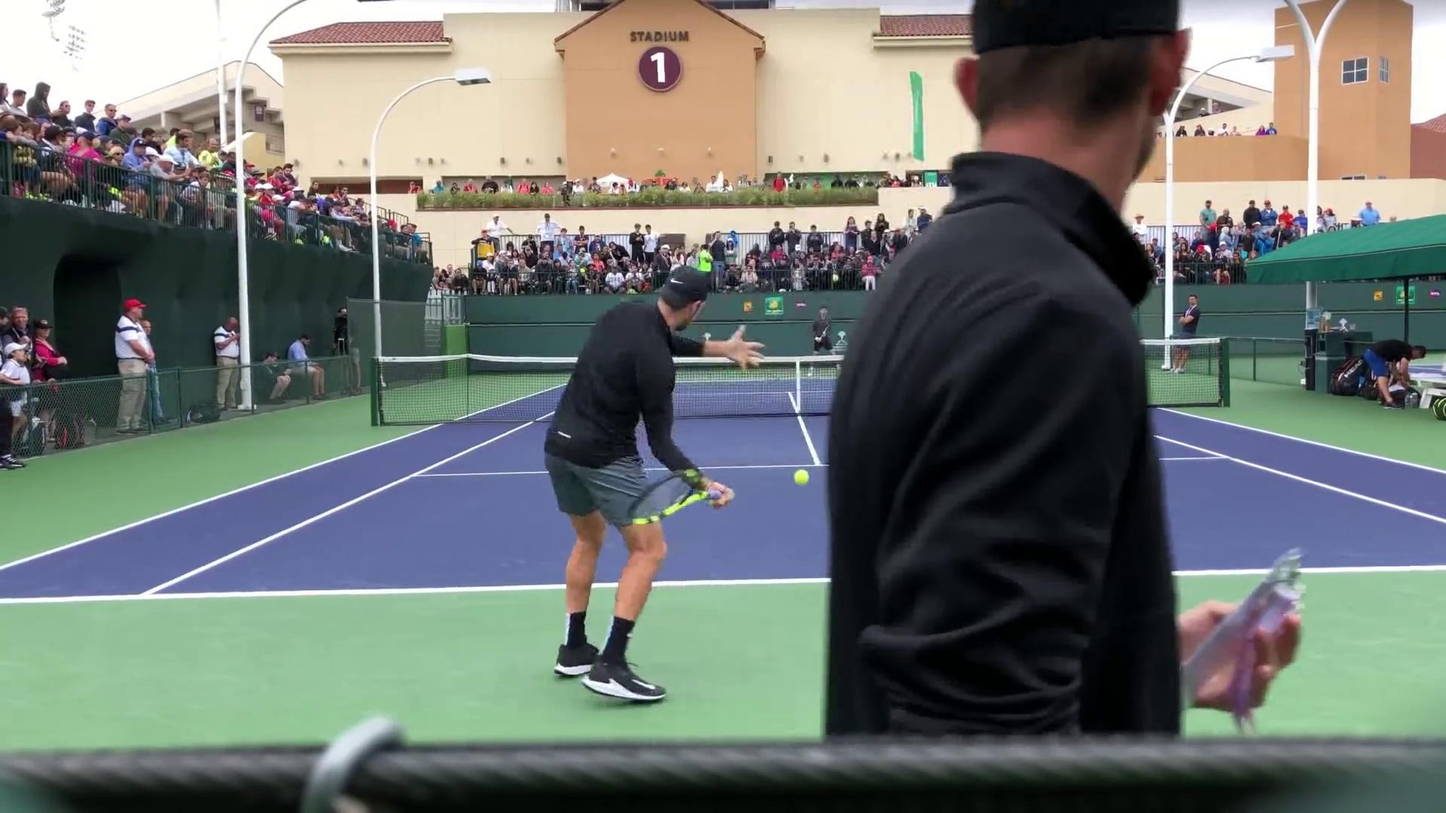ball: (792, 466, 811, 490)
